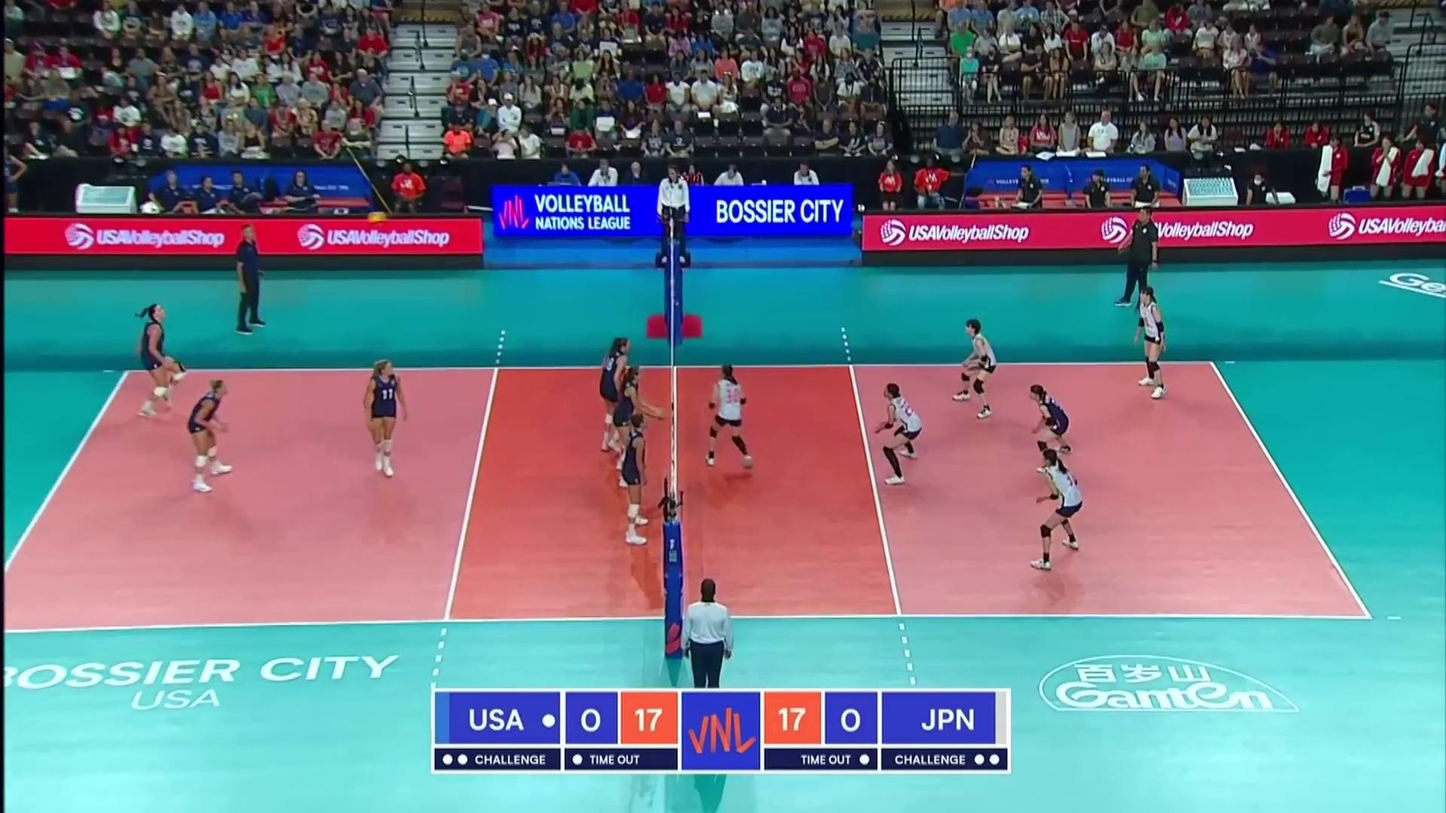player: (1025, 451, 1088, 565), (132, 305, 191, 419), (183, 382, 240, 485), (363, 357, 410, 479), (707, 365, 758, 471), (948, 322, 998, 421), (879, 383, 925, 486), (619, 409, 653, 548), (1026, 383, 1075, 472), (598, 333, 634, 454), (1135, 285, 1170, 402), (616, 367, 641, 491)
refree: (681, 581, 735, 722), (656, 166, 690, 262)
